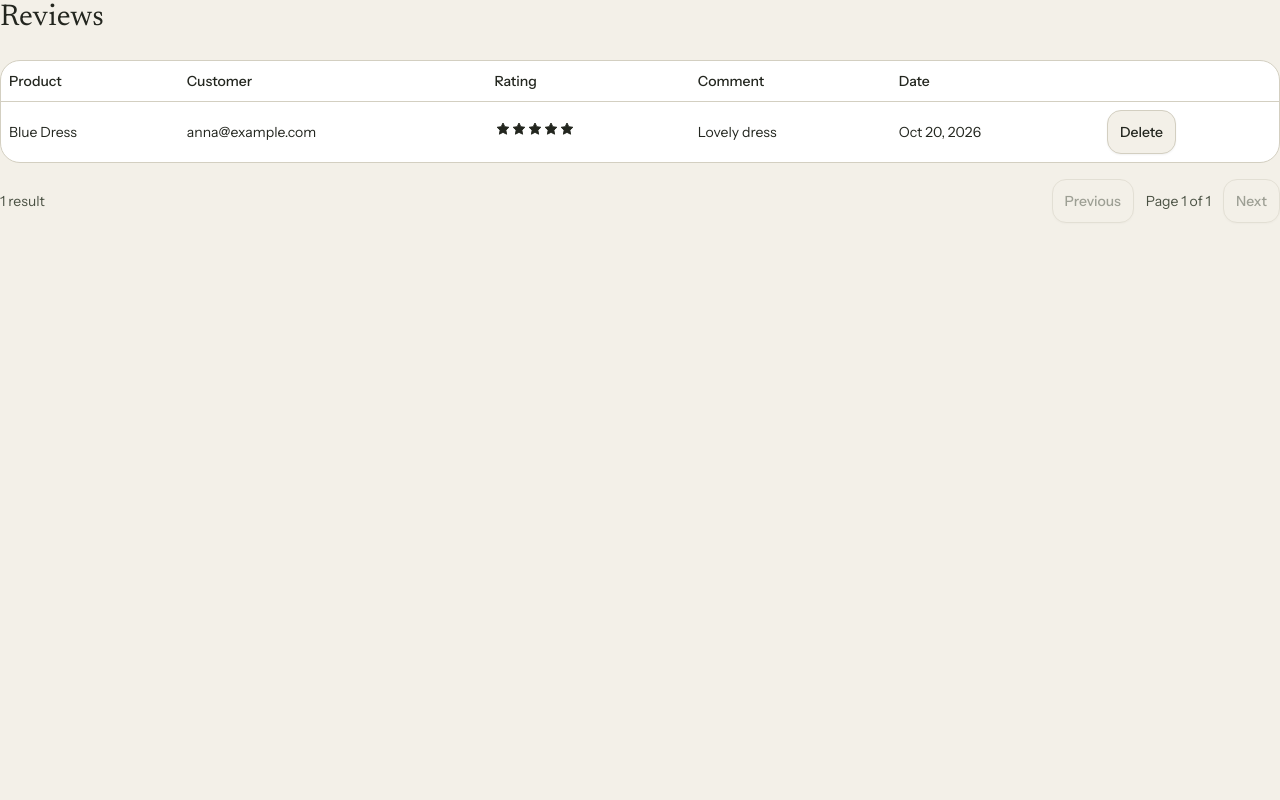
admin ReviewsPage › deleting › says so in a toast when deleting fails, and keeps the review
Click the button with aria-label "Delete the review by anna@example.com" at (1142, 132), box top-left (1107, 110), bottom-right (1176, 154)
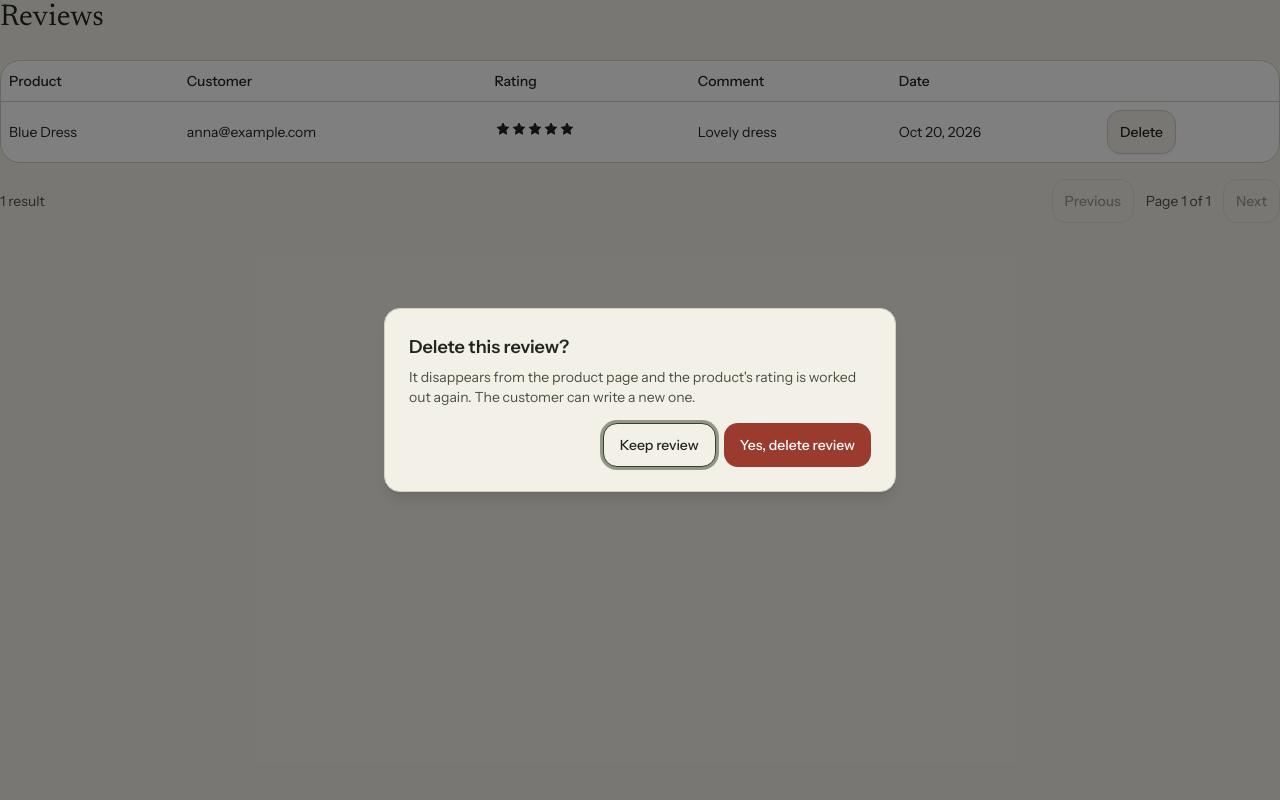
Click the button "Yes, delete review" at (797, 445), box top-left (724, 423), bottom-right (871, 467)
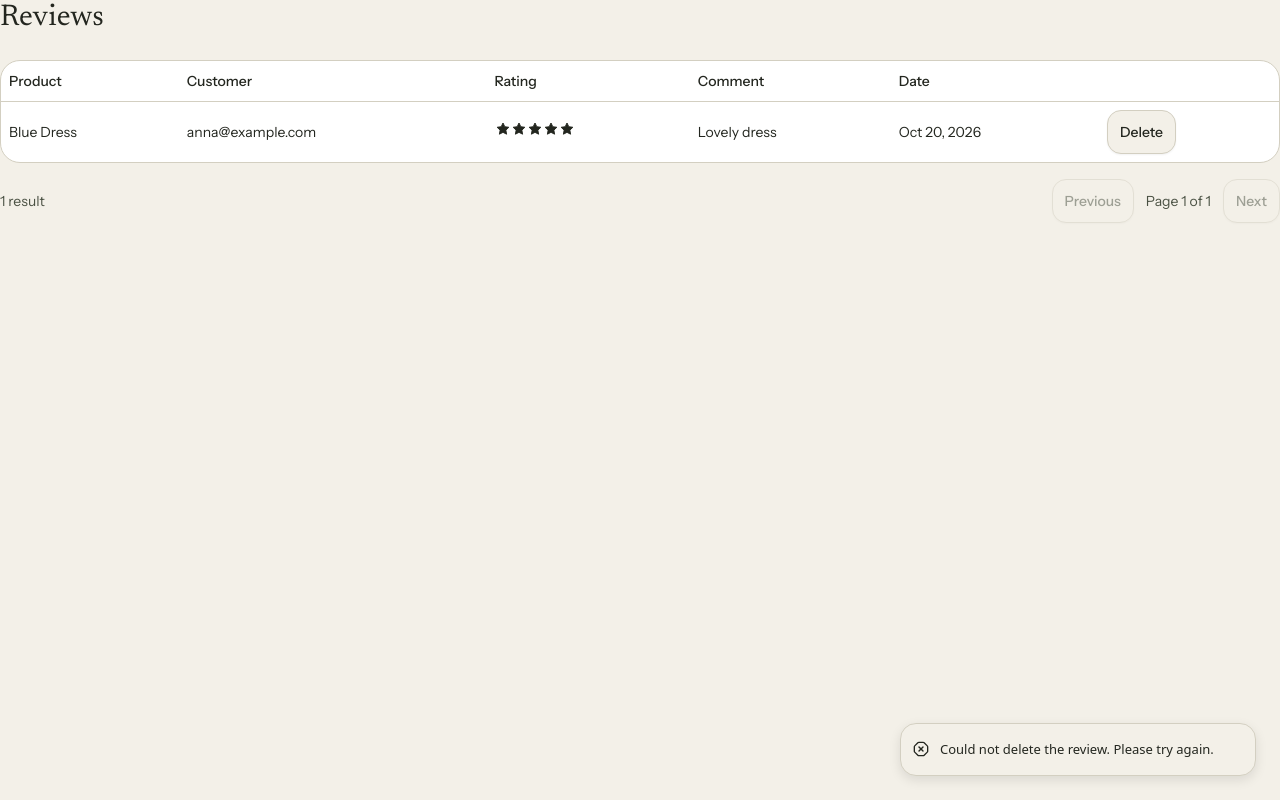
Expected: the text "anna@example.com" is shown, top-left (179, 101), bottom-right (486, 162)
Result: the text "Could not delete the review. Please try again." is shown at top-left (940, 740), bottom-right (1214, 759)
